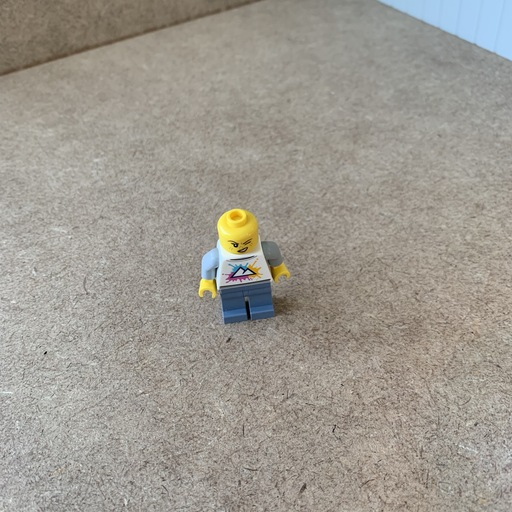human: (196, 201, 290, 325)
